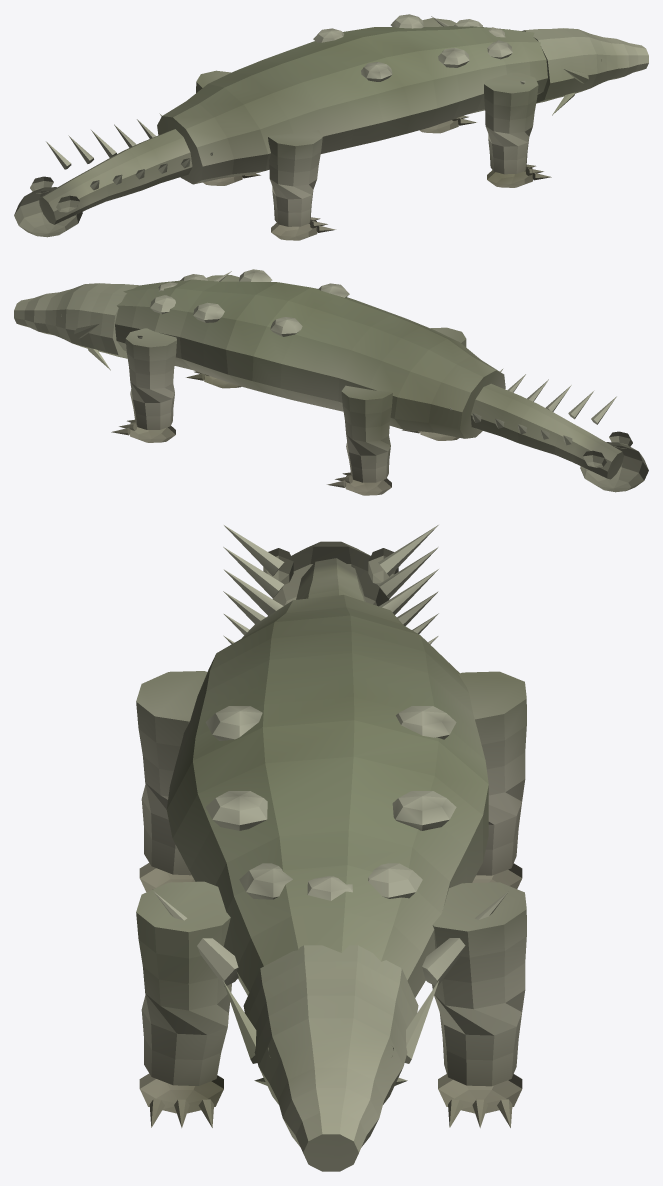
File: ankylo.glb
3 renders of one model, top to bottom at view 1: azimuth 30°, elevation 25°; view 2: azimuth 150°, elevation 25°; view 3: azimuth 270°, elevation 25°, orthographic. The views are drawn at different scales.
Parts seen in each view (by area): view 1: bodym, tailm, headm, legmFR, legmBR, platesm, tailplatesm, legmBL, legmFL; view 2: bodym, tailm, headm, legmFL, legmBL, platesm, tailplatesm, legmBR, legmFR; view 3: bodym, headm, legmFL, legmFR, platesm, legmBL, legmBR, tailm, tailplatesm.
Boxes of the visible parts, x1,y1,x2,y2 form: bodym: (157,26,547,184); tailm: (14,129,192,237); headm: (509,28,648,115); legmFR: (484,72,551,187); legmBR: (268,130,335,240); platesm: (313,14,525,84); tailplatesm: (46,113,212,190); legmBL: (196,70,260,185); legmFL: (420,18,476,133); bodym: (115,279,505,438); tailm: (470,383,648,492); headm: (14,283,139,370); legmFL: (111,328,176,442); legmBL: (327,385,392,495); platesm: (125,269,349,342); tailplatesm: (450,368,616,445); legmBR: (402,327,466,440); legmFR: (186,275,241,388); bodym: (166,595,488,997); headm: (223,945,438,1171); legmFL: (432,882,526,1127); legmFR: (136,881,231,1127); platesm: (153,706,508,986); legmBL: (458,671,526,888); legmBR: (136,671,207,892); tailm: (263,541,398,606); tailplatesm: (223,525,438,644).
Bounding box in the file's own units: 8.25 × 1.78 × 2.23.
